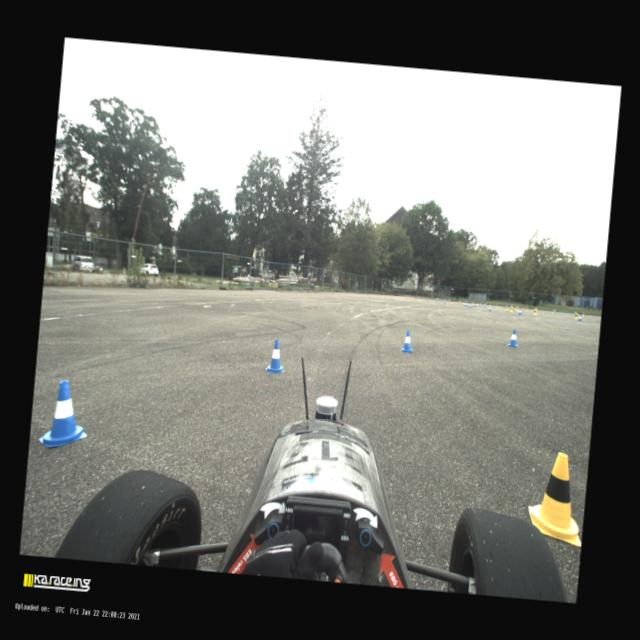blue_cone: (38, 378, 92, 451), (266, 339, 286, 374), (400, 328, 416, 354), (505, 328, 520, 348), (577, 314, 582, 321), (517, 308, 522, 315), (488, 304, 491, 310), (468, 302, 471, 308), (464, 301, 467, 306), (479, 302, 481, 306), (474, 302, 476, 306), (483, 303, 485, 307), (436, 297, 438, 301), (443, 298, 445, 302), (448, 298, 450, 302), (458, 300, 460, 304), (554, 308, 556, 312)
yellow_cone: (525, 449, 589, 546), (532, 308, 538, 314), (574, 312, 578, 319), (524, 306, 528, 312), (508, 306, 512, 312), (505, 304, 508, 310), (516, 305, 518, 311), (496, 304, 498, 308), (462, 300, 464, 304), (472, 300, 474, 304), (476, 301, 478, 305), (552, 308, 554, 312), (582, 312, 584, 316), (460, 300, 460, 304)
